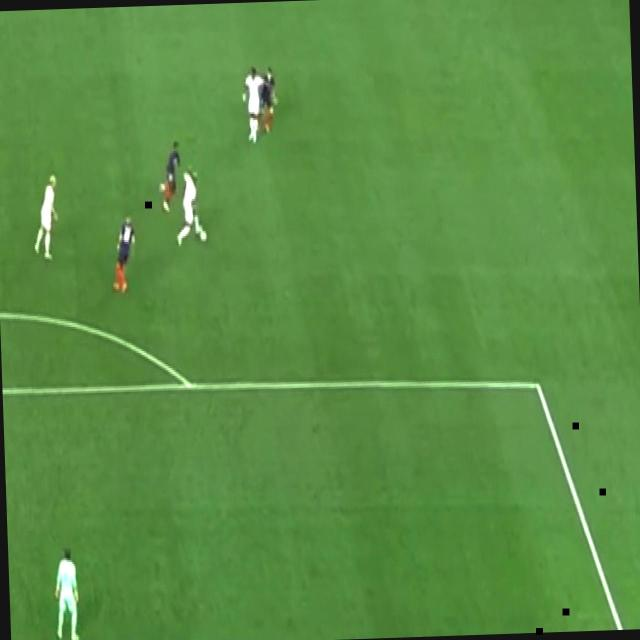ball: (198, 227, 210, 246)
player-white: (28, 170, 64, 268), (52, 543, 82, 640), (170, 166, 204, 250), (242, 60, 273, 149), (109, 212, 141, 298), (154, 136, 186, 216), (258, 61, 282, 135)
